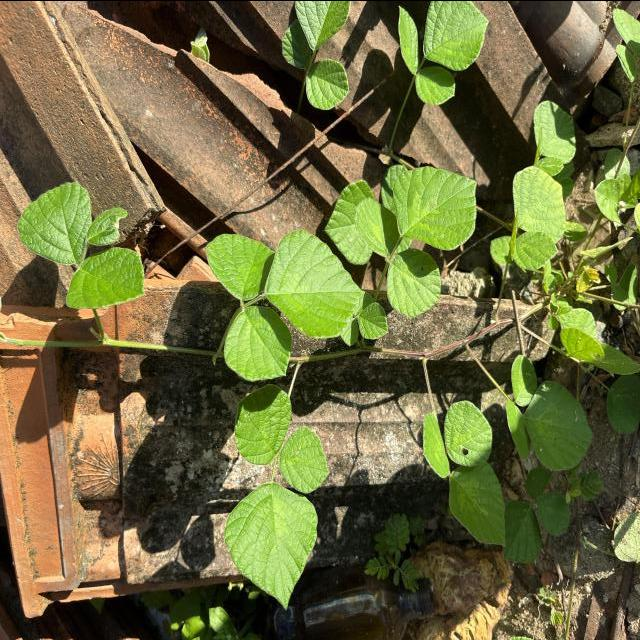Pseudarthria viscida: (222, 381, 332, 611), (204, 227, 364, 383), (353, 164, 478, 317), (421, 398, 508, 548), (397, 0, 490, 105)
